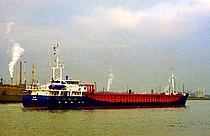Ship: (20, 40, 193, 113)
